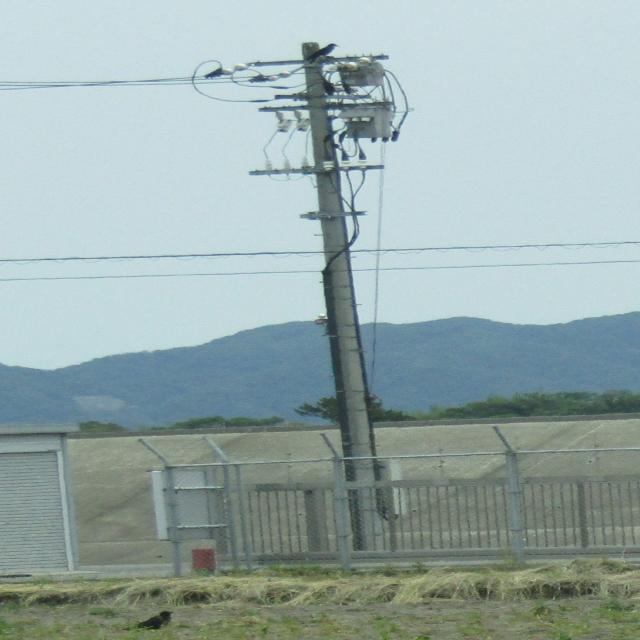pole: (221, 33, 412, 580)
